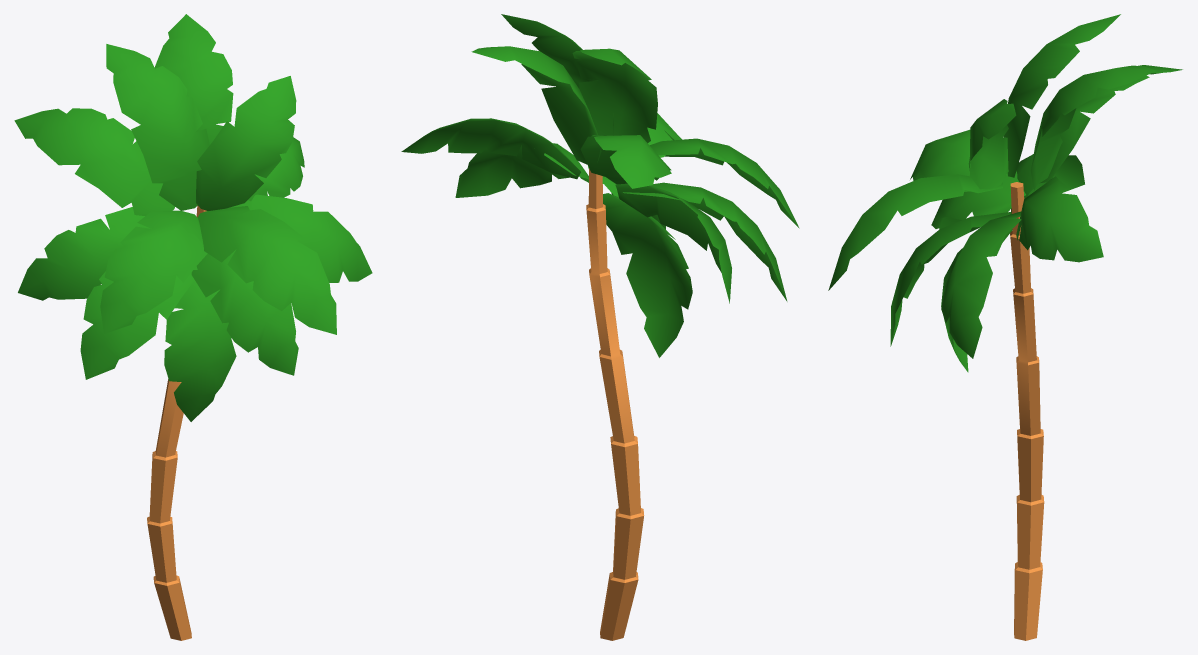
Rendered from PalmTree2.fbx.
3 views of the same model, side by side, from view 1: azimuth 30°, elevation 25°; view 2: azimuth 150°, elevation 25°; view 3: azimuth 270°, elevation 25° (orthographic). The views are drawn at different scales.
Visible parts, largest first — view 1: PalmTree_3.005; view 2: PalmTree_3.005; view 3: PalmTree_3.005.
Part boxes in pixels (x1,y1,x2,y2): PalmTree_3.005: (14, 14, 372, 640); PalmTree_3.005: (401, 14, 799, 640); PalmTree_3.005: (828, 14, 1182, 640).
Size of the model in its own units: 7.68 by 13.75 by 7.31.
